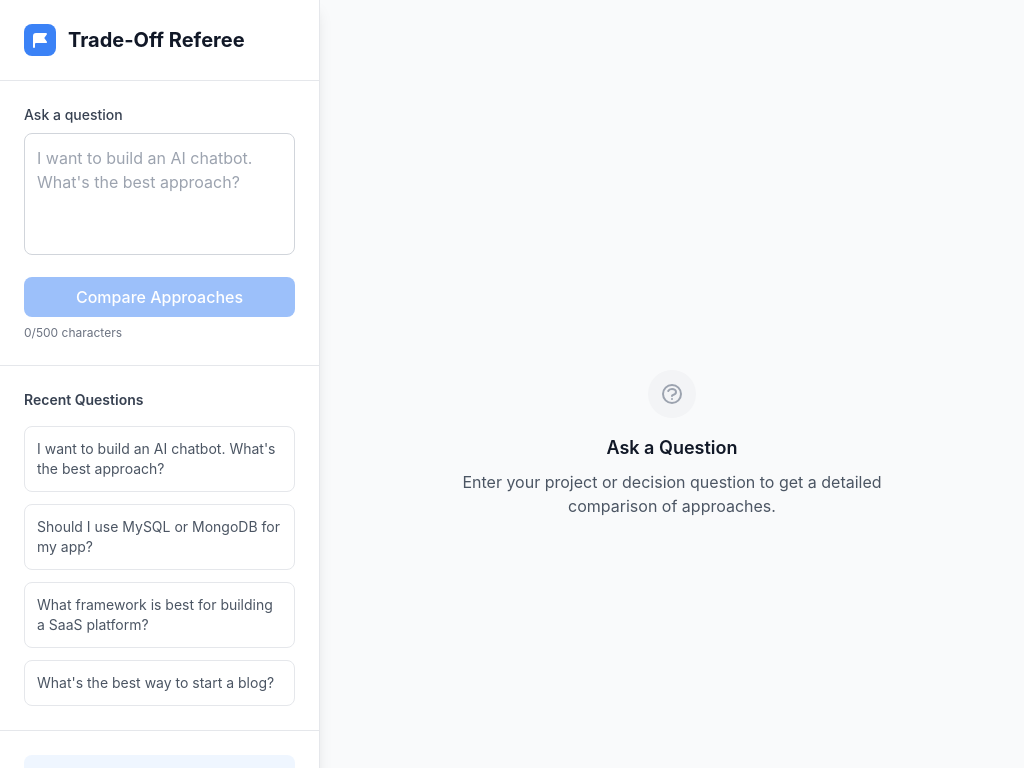
App Component › enables submit button when input has text
Type "Test question" into the text box labelled "Ask a question" at [160, 194], box [24,133,295,255]
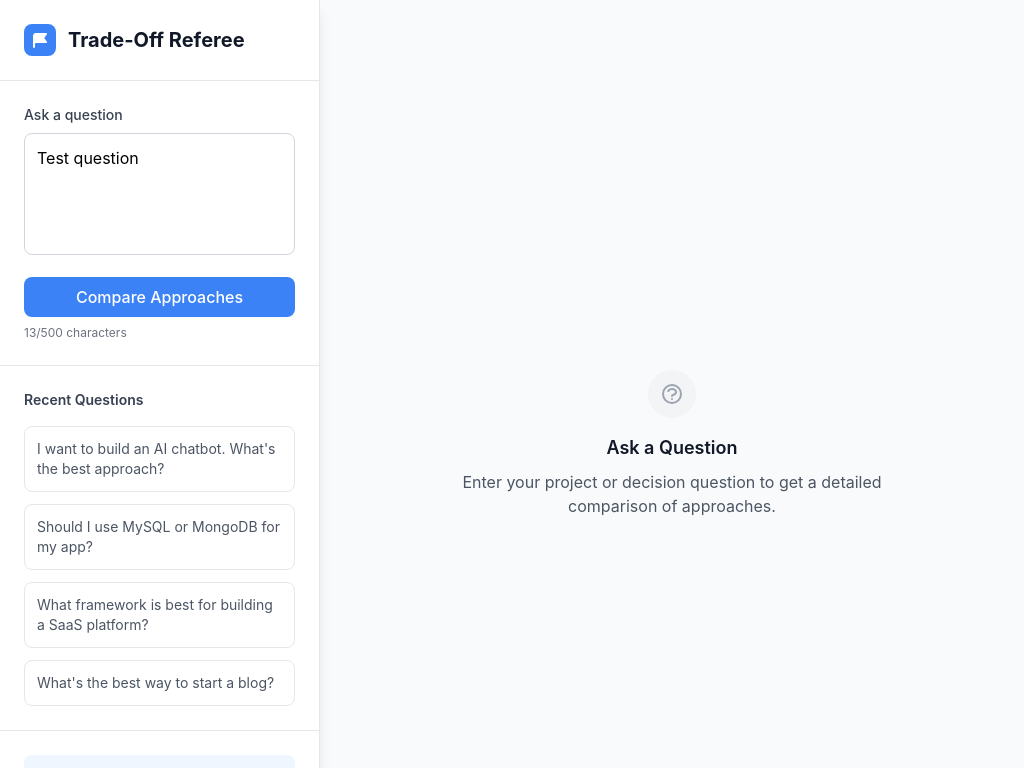
Result: the button "Compare Approaches" is enabled at [24,277,295,317]
